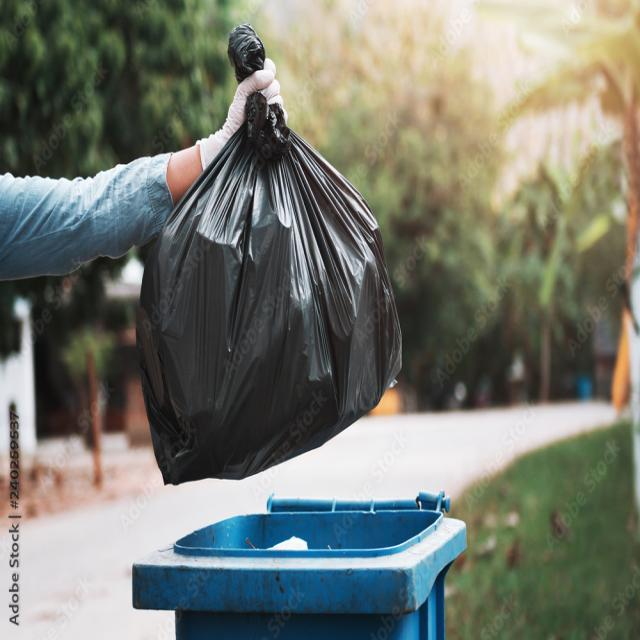metal: (168, 516, 463, 640)
trash: (106, 34, 422, 484)
